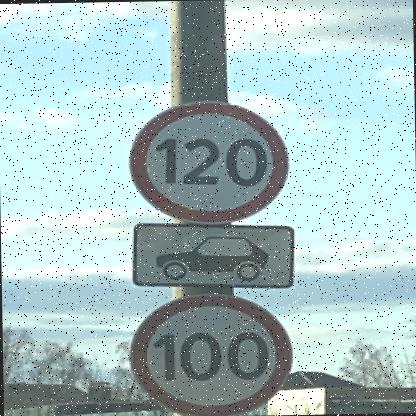speedlimit: (123, 291, 294, 415), (124, 98, 288, 223)
